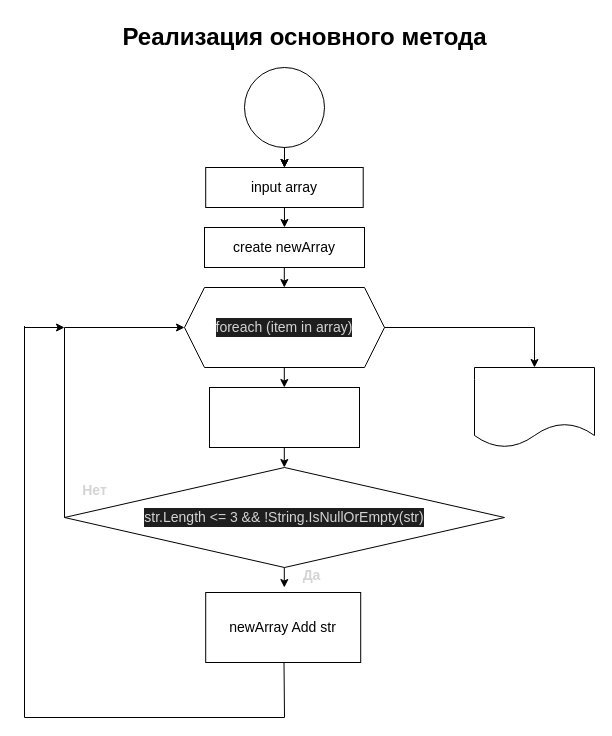
Image size: 612x736. Some labels were removed from this diagram. The box of each missing label's shape, as (x1, y1, x2, y2) in pixels:
Start: (244, 66, 324, 148)
str = item.Trim(): (208, 386, 360, 448)
Вывод newArray: (474, 366, 594, 448)
